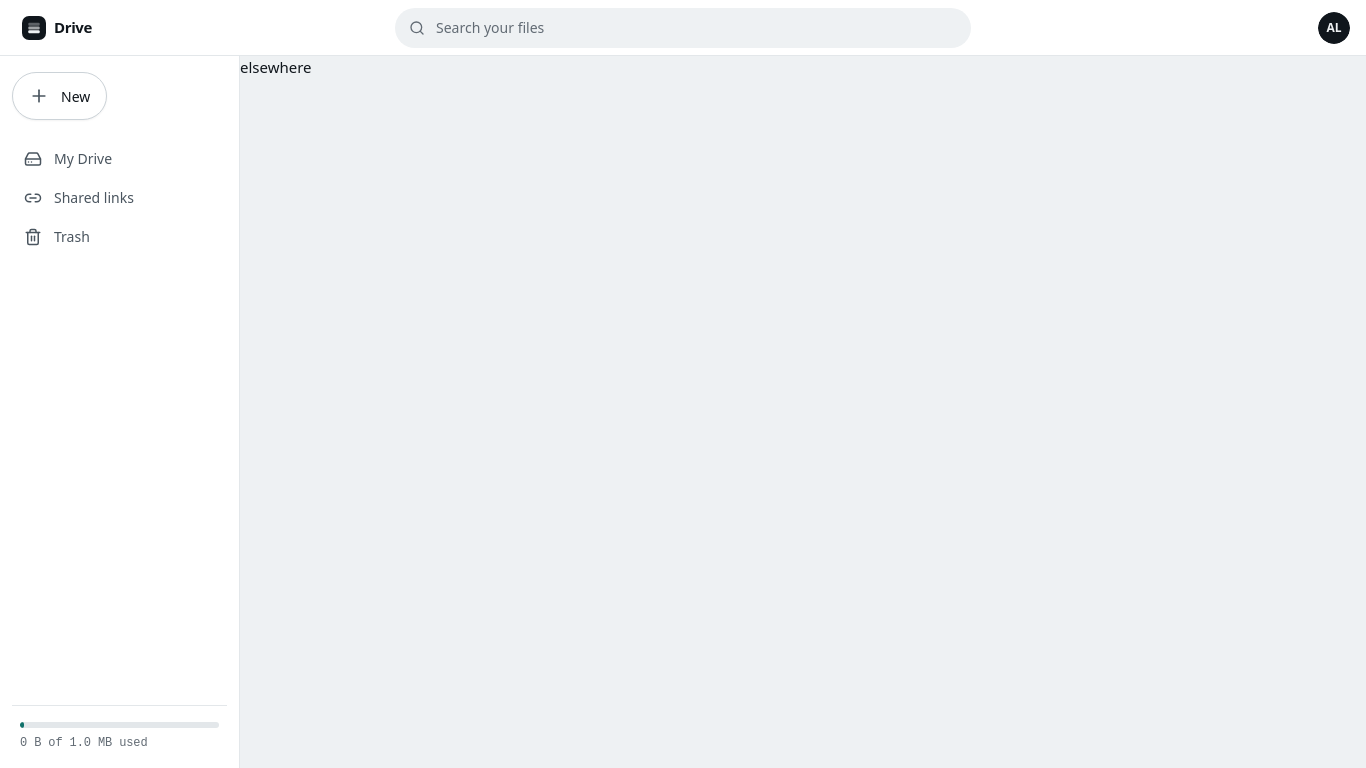
the New menu and the upload seam › names the destination on any screen that is not a folder, not just on search
This screenshot has width=1366, height=768.
Click the button "New" at (60, 96), box [12,72,107,120]
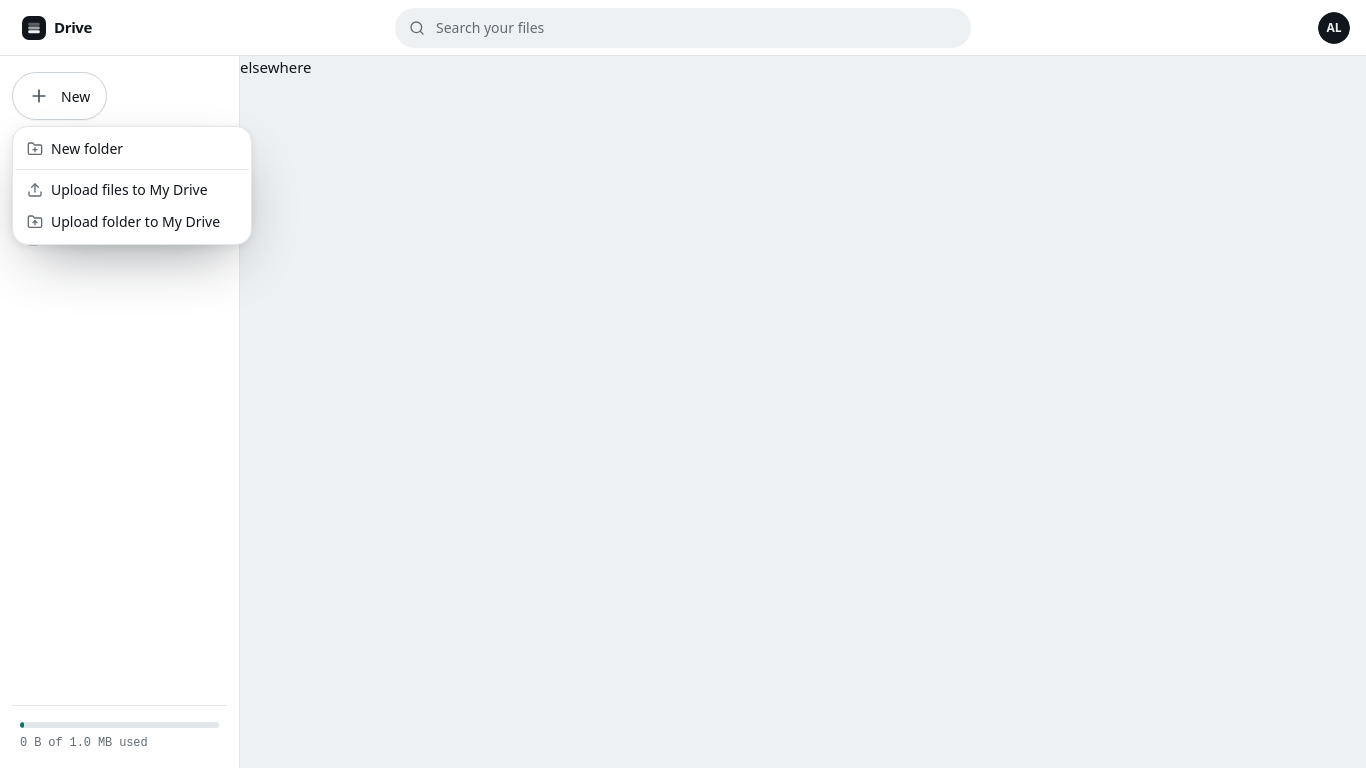
Expected: the menu item "Upload files to My Drive" is shown, [27,180,208,199]
